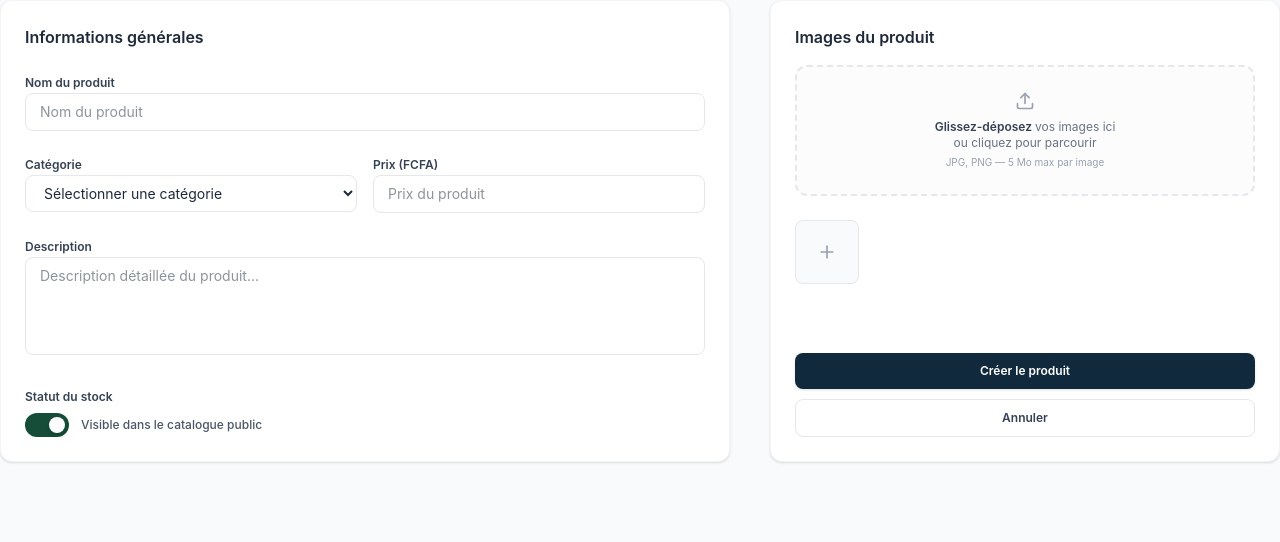
Test: AdminProductForm — sécurité › bloque l'envoi si le prix est NaN
The width and height of the screenshot is (1280, 542).
Type "Test" into the field labelled "Nom du produit" at (365, 112), box top-left (25, 93), bottom-right (705, 131)
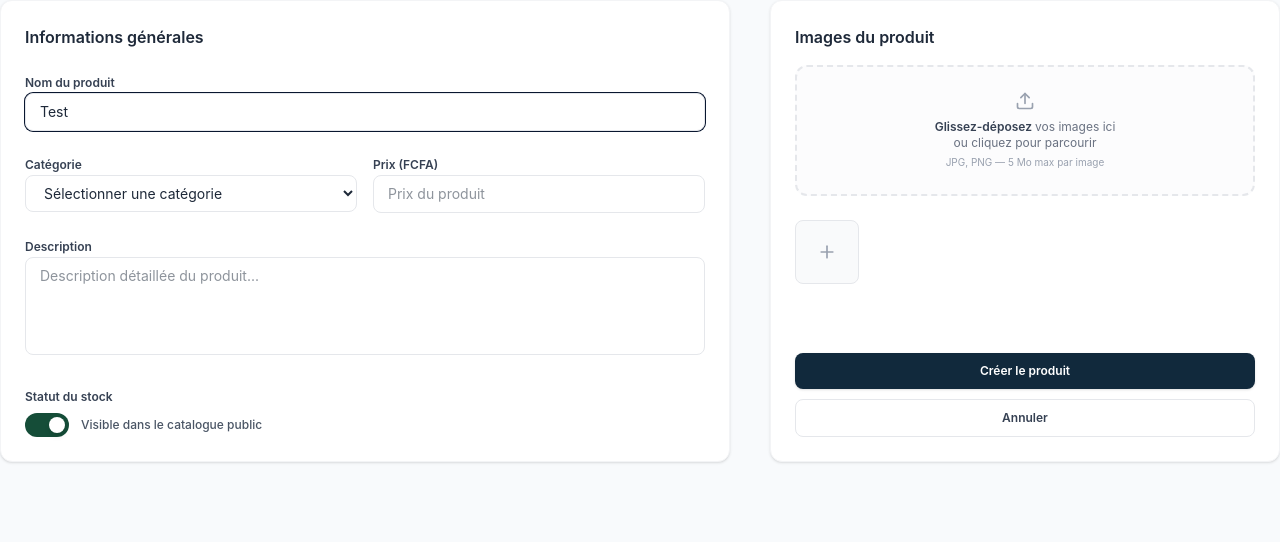
Select "Mobilier" in the dropdown labelled "Catégorie" at (191, 194), box top-left (25, 175), bottom-right (357, 212)
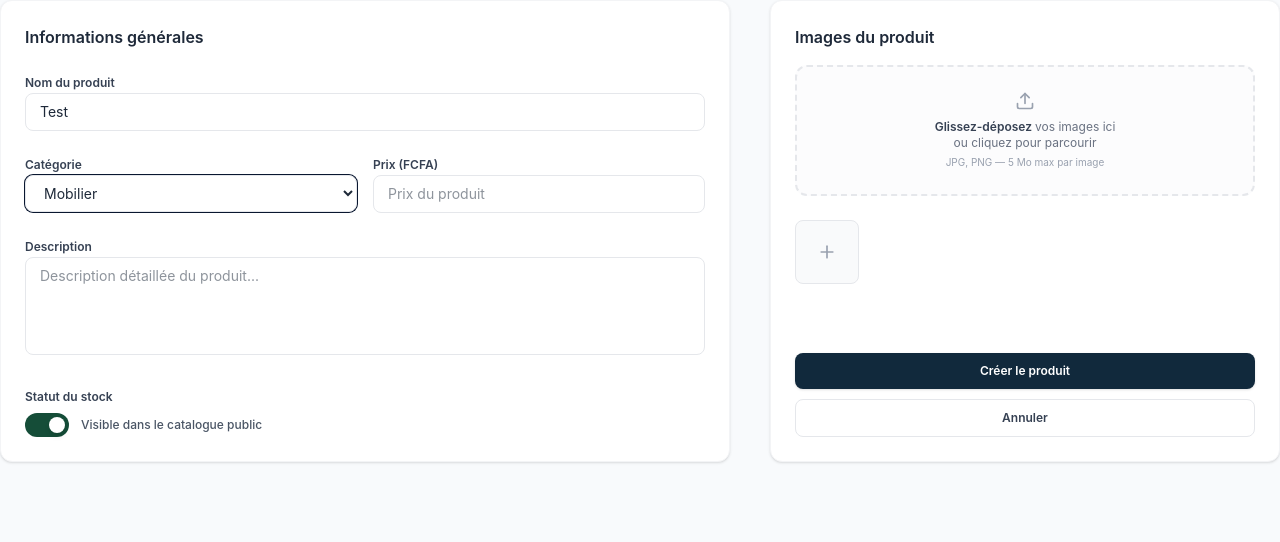
Click the button "Créer le produit" at (1025, 371), box top-left (795, 353), bottom-right (1255, 389)
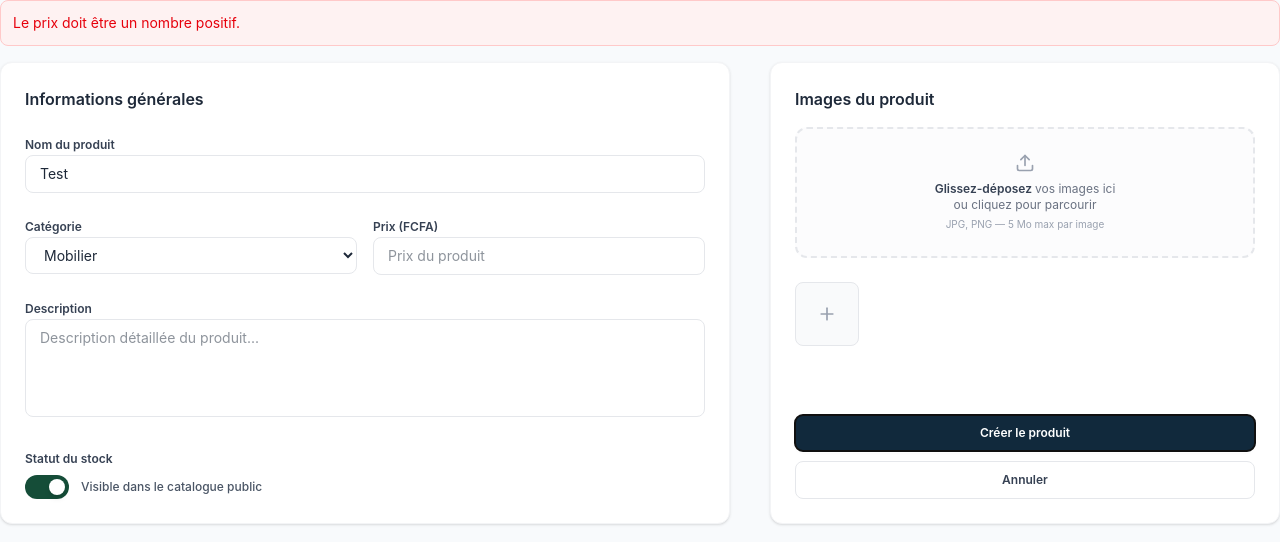
Check: the message shows "prix", box top-left (13, 14), bottom-right (240, 31)
